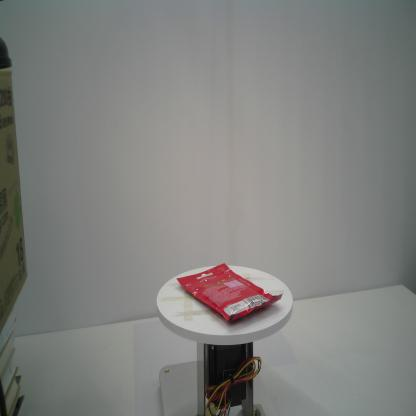Candy: (176, 262, 283, 322)
